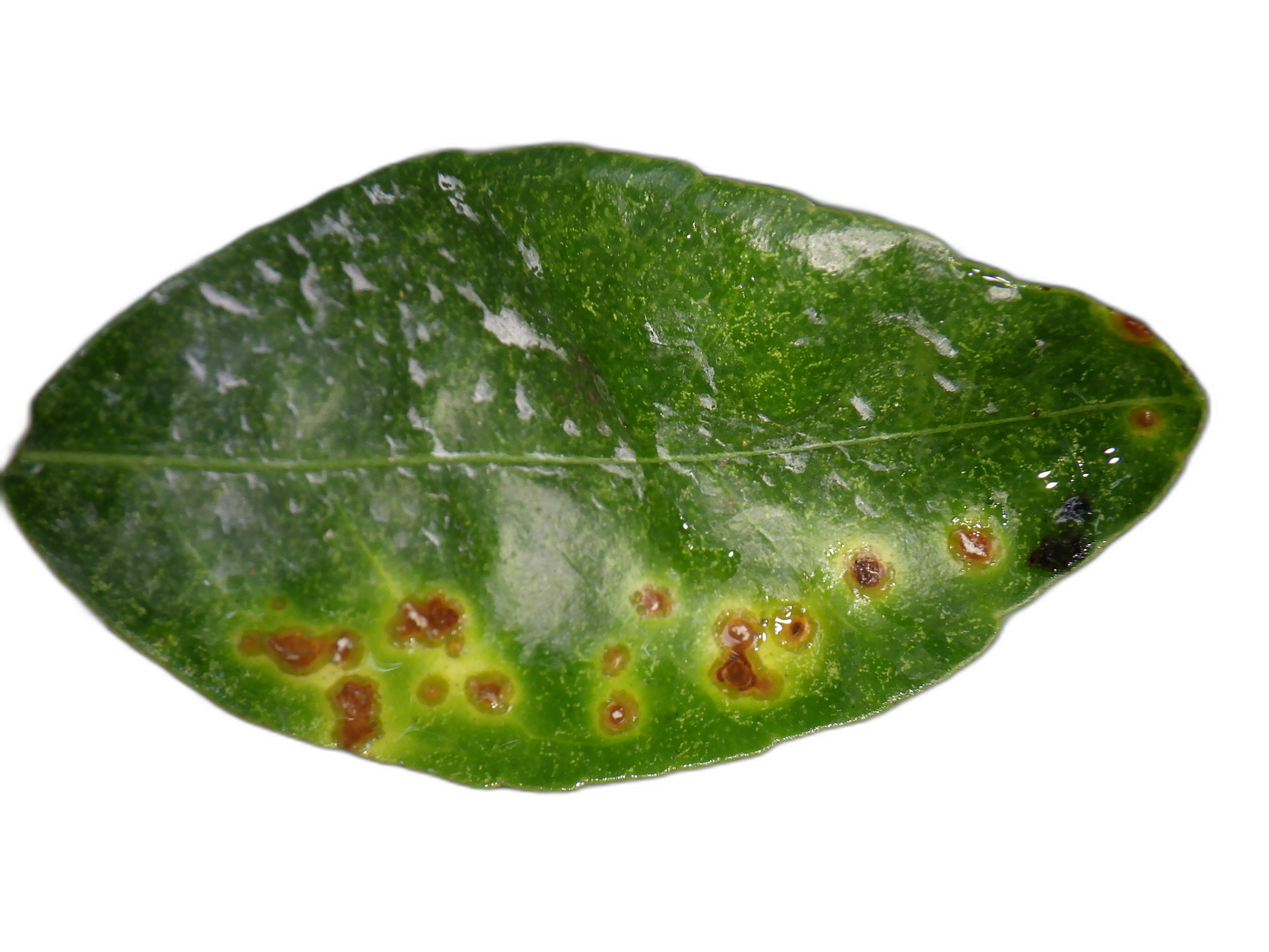Canker: (240, 628, 356, 672), (716, 616, 758, 699), (390, 592, 465, 637), (842, 544, 897, 603), (948, 521, 1003, 569), (335, 678, 373, 738), (464, 670, 513, 713), (598, 689, 639, 734), (630, 584, 674, 619), (417, 674, 454, 706), (600, 643, 633, 677), (1129, 407, 1161, 435), (782, 615, 812, 644)
